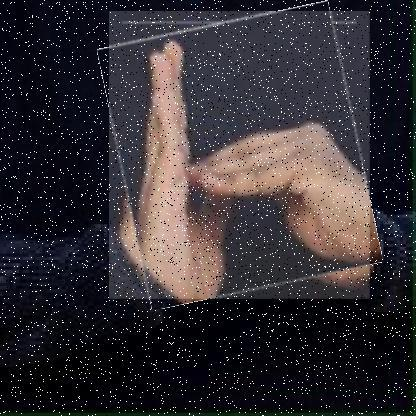Z: (109, 11, 371, 300)
